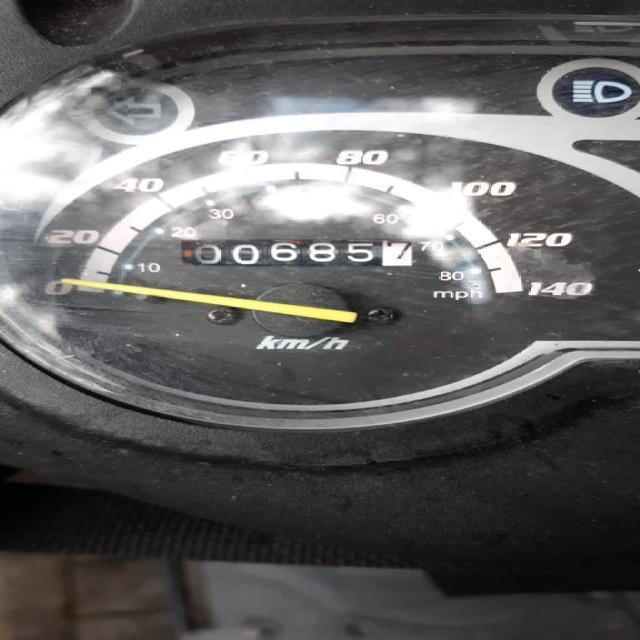odometer: (176, 237, 417, 267)
